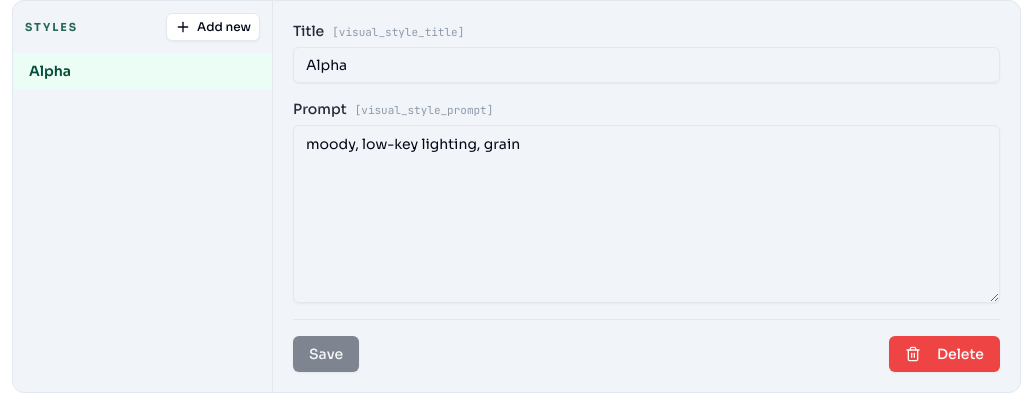
Test: VisualStyleGallery — create flow › POSTs the new style, re-fetches the list, and auto-selects the new row
Expected: the field showing "Alpha" is shown, [293,47,1000,83]
Click the button "Add new" at [213, 27], box [166,13,260,41]
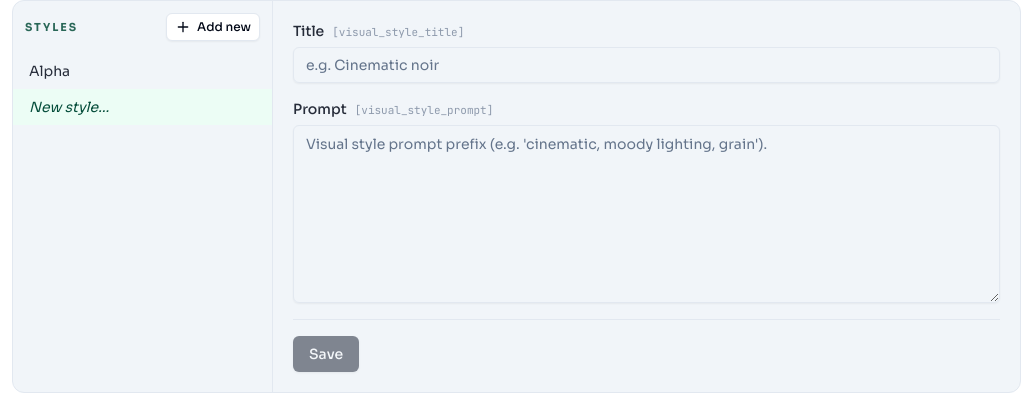
Type "Brand new" into the field labelled "Title [visual_style_title]" at [646, 65], box [293,47,1000,83]
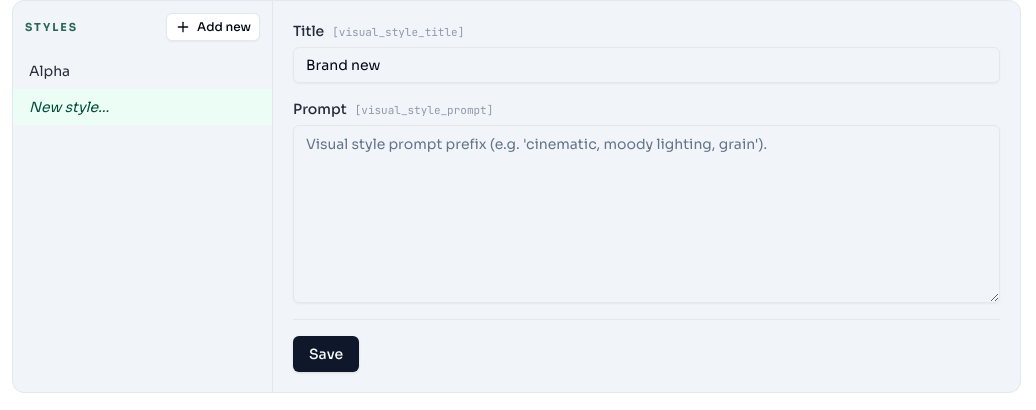
Replace the text in the text box labelled "Prompt [visual_style_prompt]" with "fresh" at [646, 214], box [293,125,1000,303]
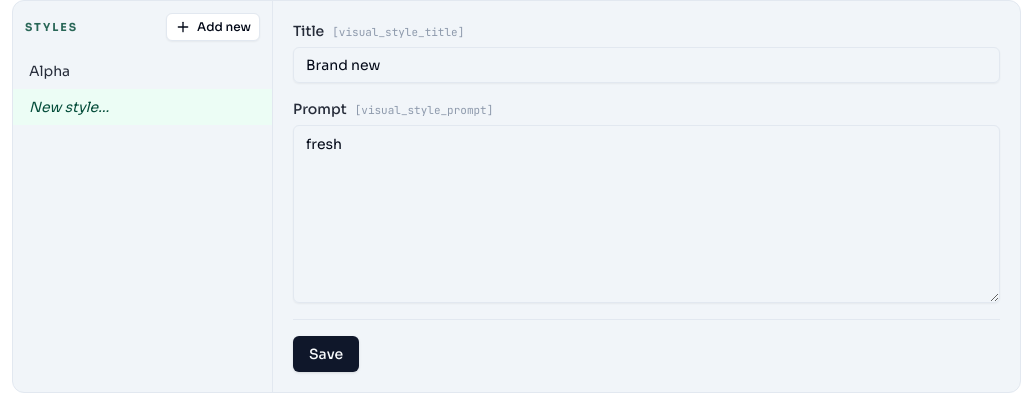
Click the button "Save" at [326, 354], box [293,336,359,372]
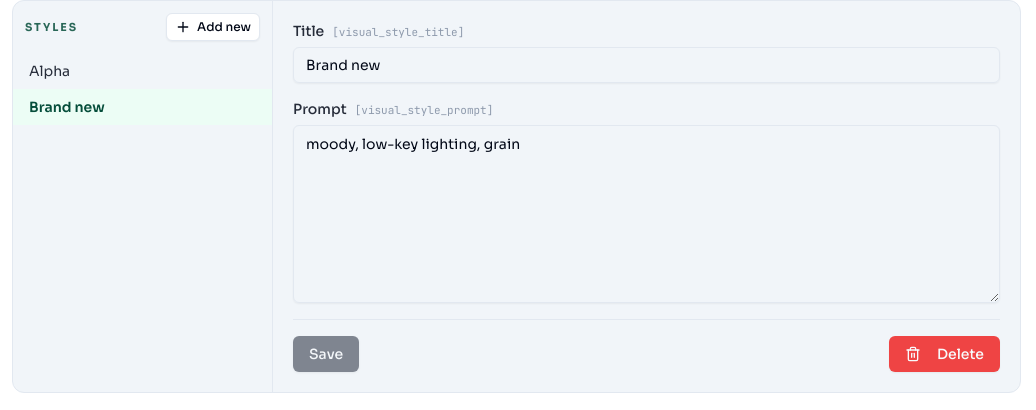
Result: the button "Delete" is shown at [889,336,1000,372]
